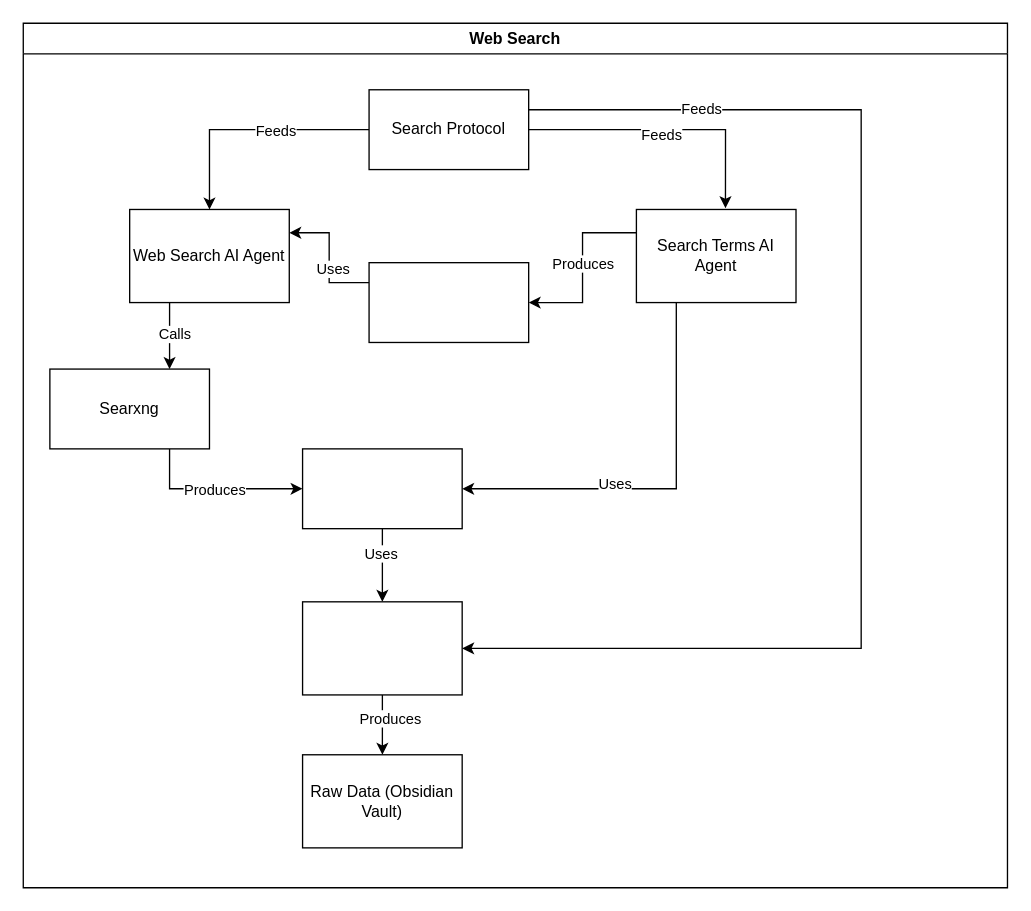
Image size: 1031x911. Some labels were removed from this diagram. Each missing label, with the centre of its shape:
Raw data AI Agent: point (381, 647)
Search Results: point (381, 488)
Search Terms: point (448, 301)
